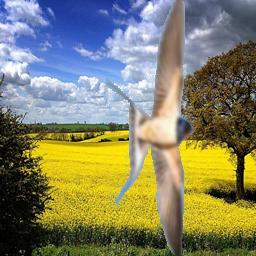Swallow: (106, 0, 194, 256)
